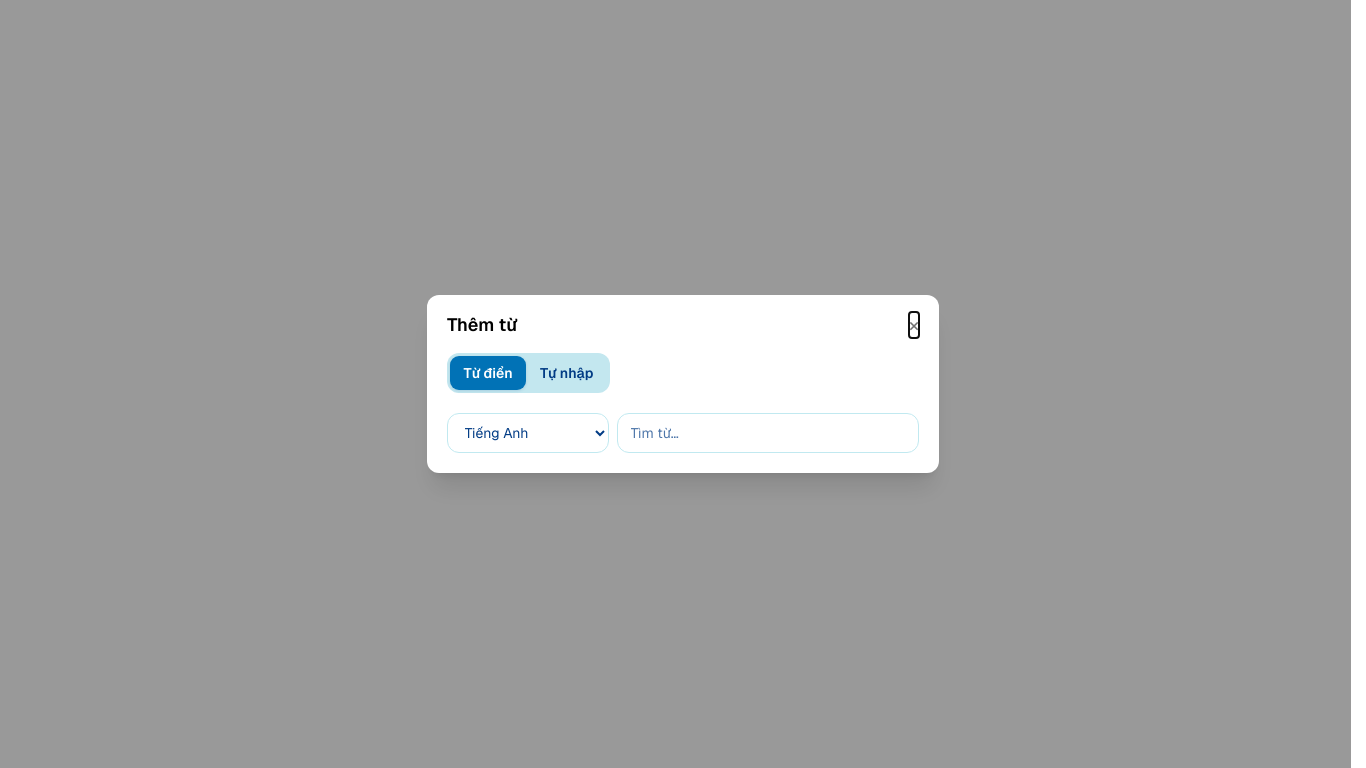
Test: filling a word by hand › shows a failure that throws instead of going quiet
This screenshot has width=1366, height=768.
Click the tab "Tự nhập" at (567, 373), box x1=526 y1=356 x2=607 y2=390
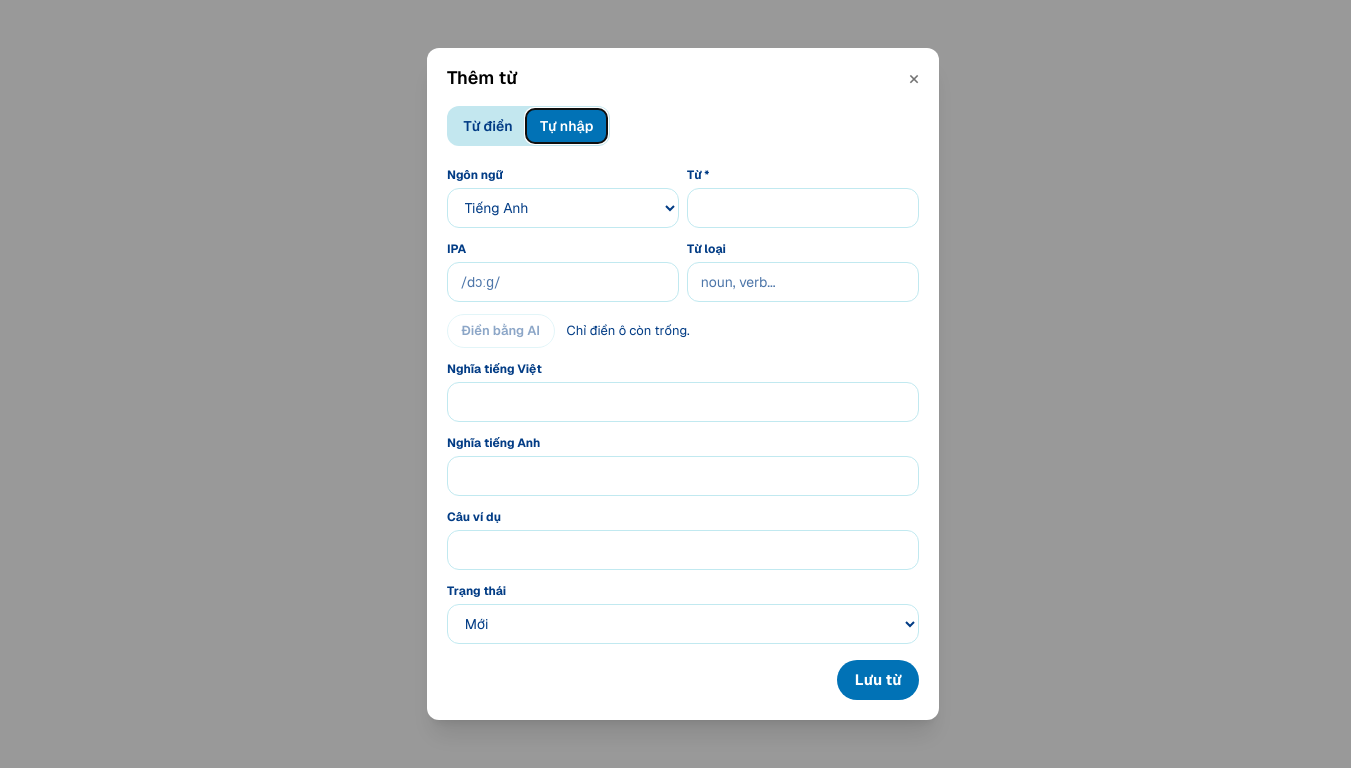
Type "dog" into the field labelled "Từ *" at (803, 208), box x1=687 y1=188 x2=919 y2=228
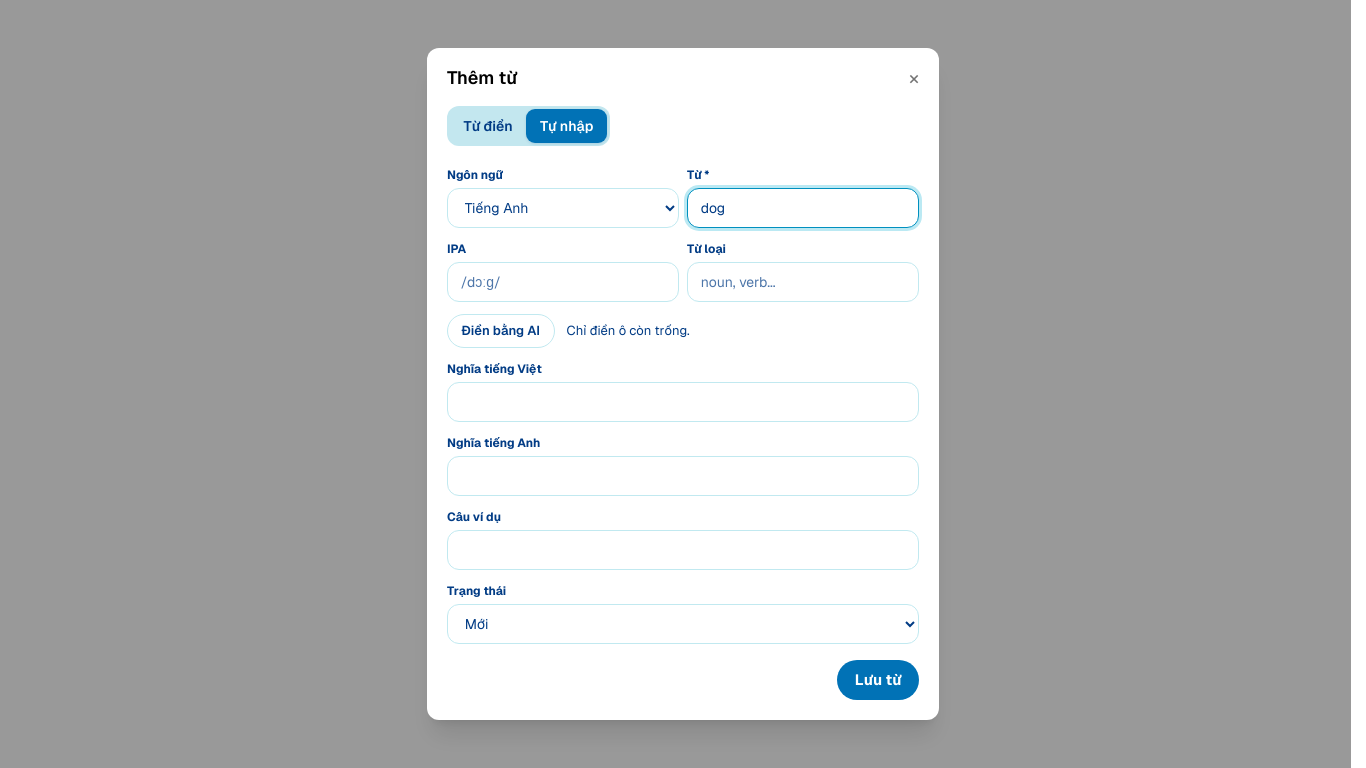
Click the button "Điền bằng AI" at (501, 331), box x1=447 y1=314 x2=554 y2=348
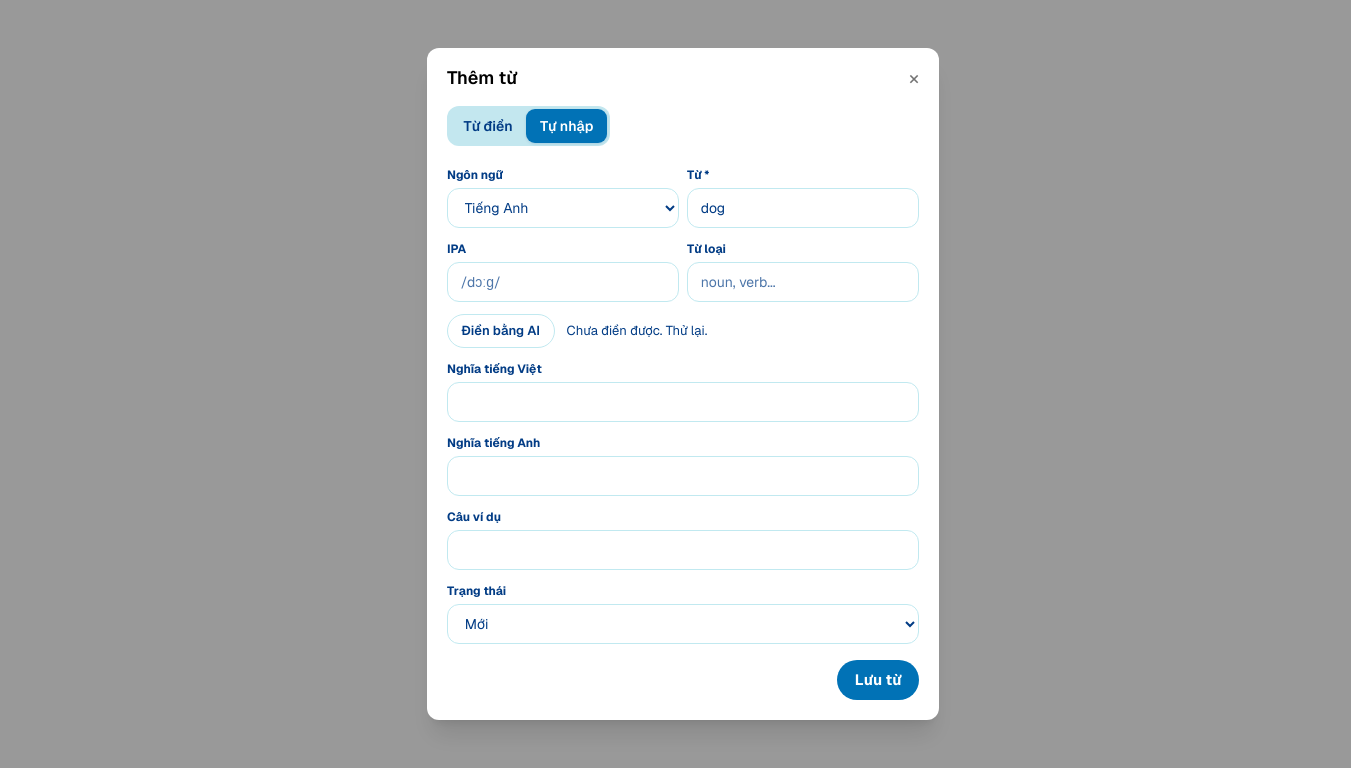
Now the text "Chưa điền được. Thử lại." is shown, box x1=566 y1=321 x2=707 y2=341
